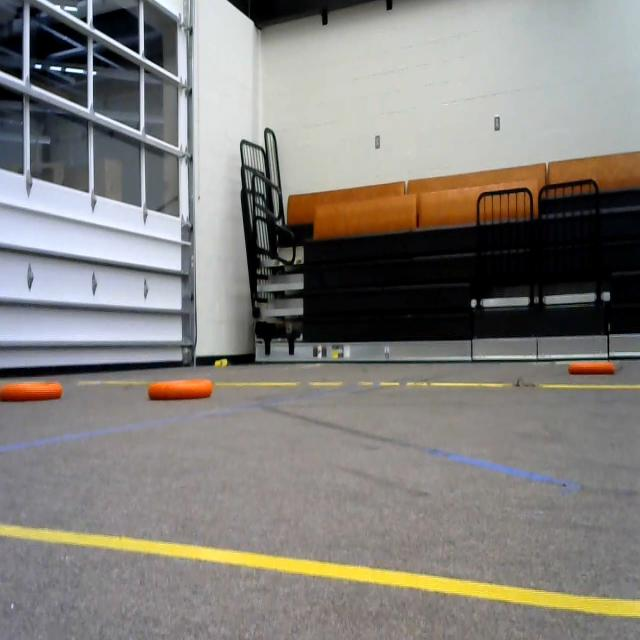note: (146, 376, 218, 404), (0, 375, 64, 403), (567, 356, 617, 382)
